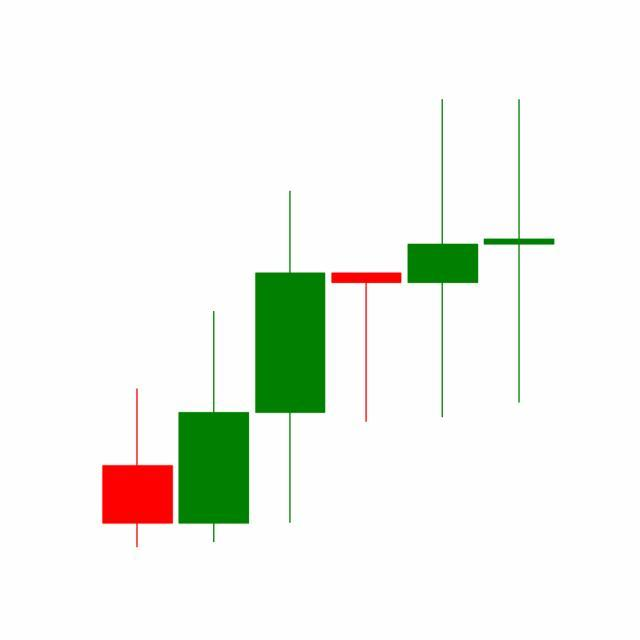Spinning Top: (404, 96, 482, 422)
